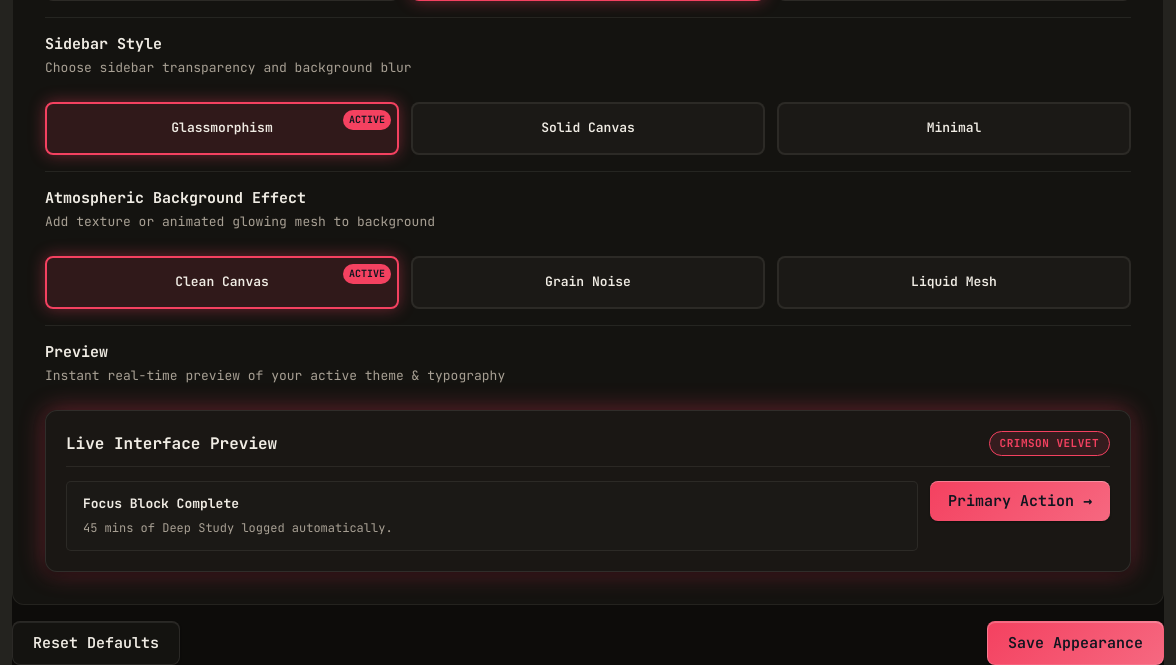
Test: AppearanceTab › restores every default and drops the custom stops on reset
(page scrolled)
Click the button "Reset Defaults". click: (96, 643)
box: [12, 621, 180, 664]
(page scrolled)
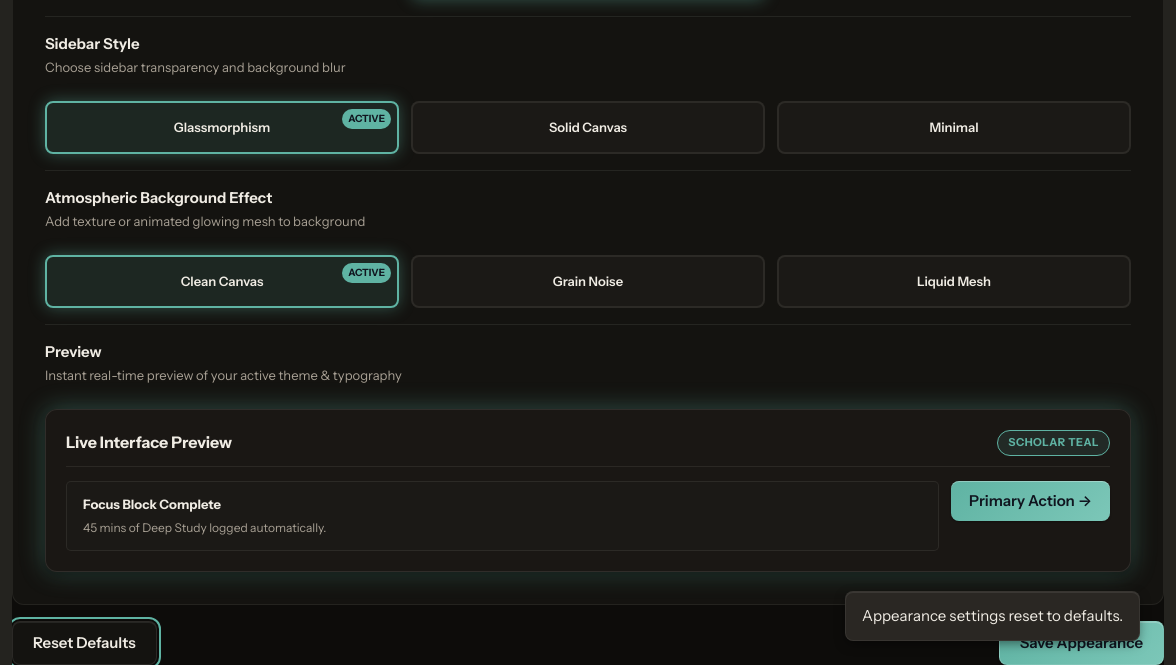
expect the text "Appearance settings reset to defaults." is shown: met, box [862, 604, 1123, 628]
